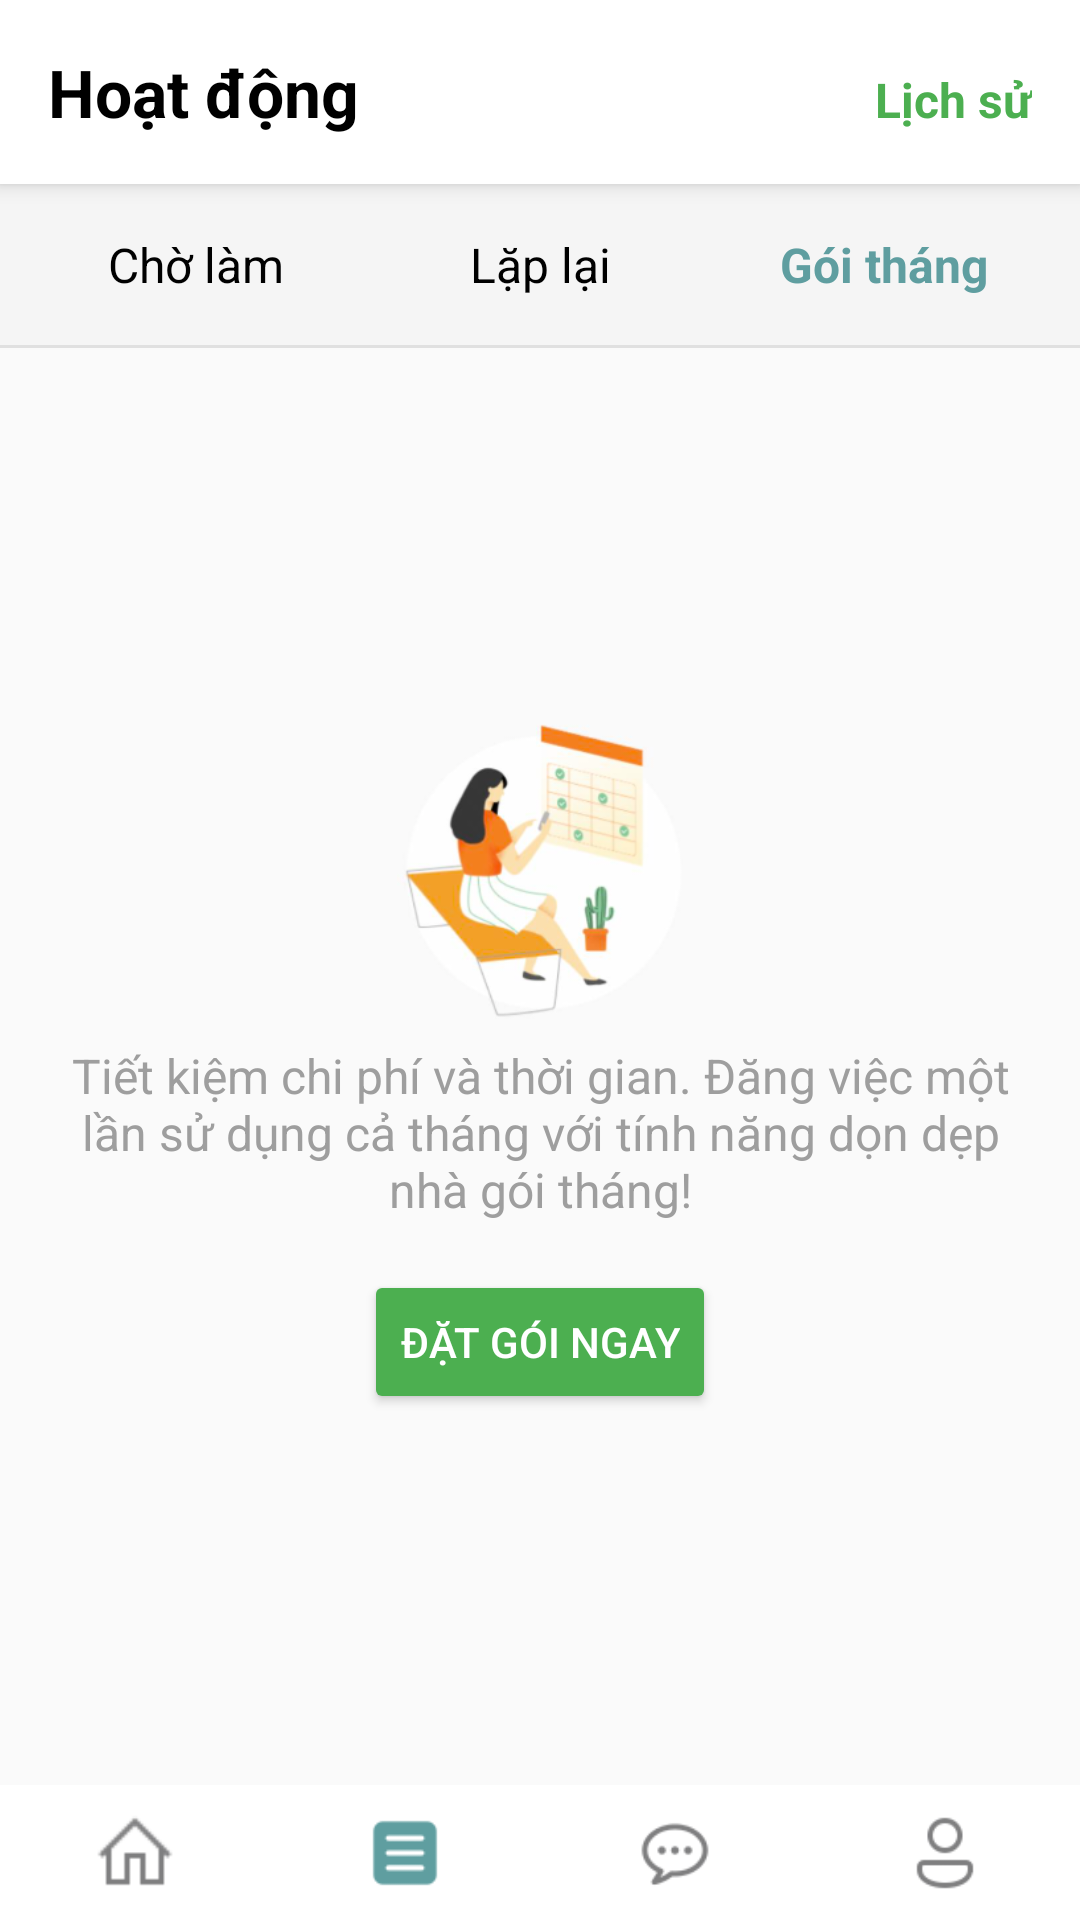

Where to tap for icons on this 1080 × 1920 app screen, as (x=x, y=y):
Home: (x=135, y=1851)
Profile: (x=945, y=1853)
Support: (x=675, y=1854)
